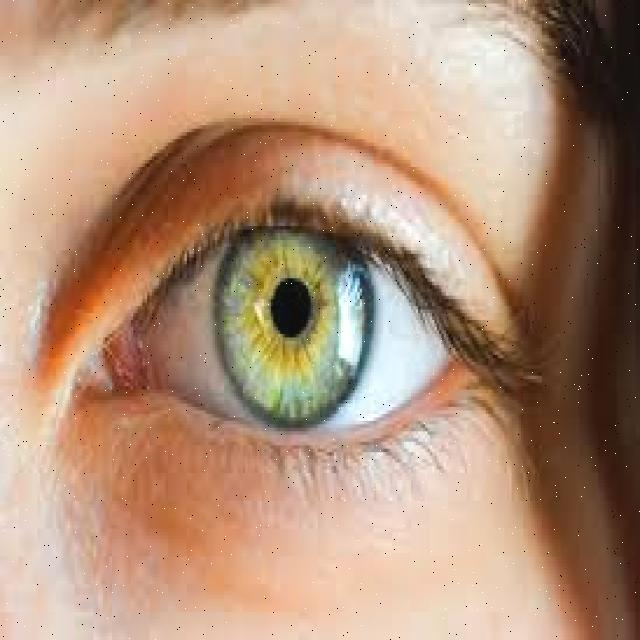Normal: (18, 79, 576, 640)
